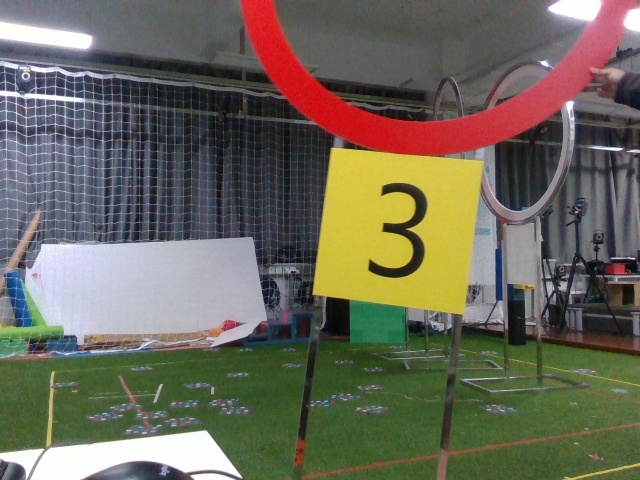target: (324, 166, 470, 300)
